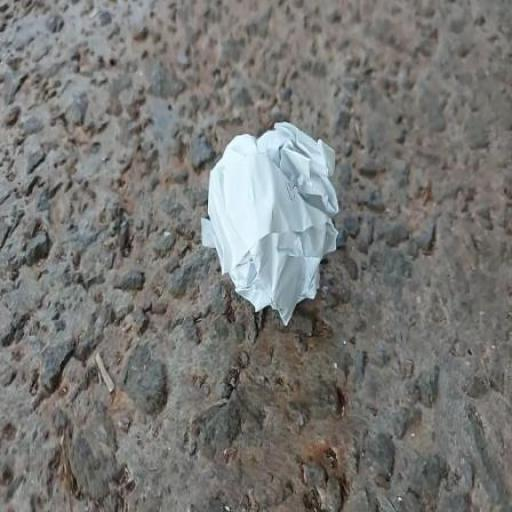paper: (147, 94, 422, 401)
